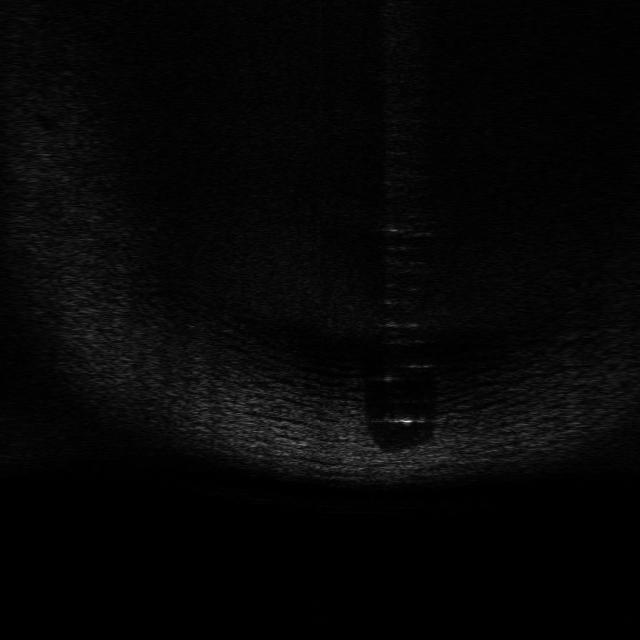cube: (382, 439, 448, 473)
